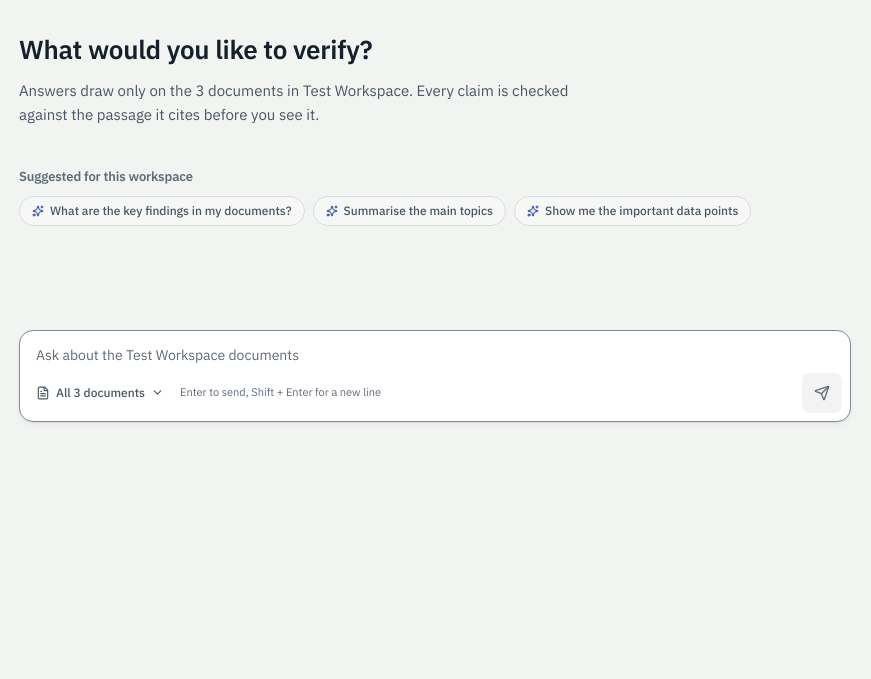
Test case: ChatPage › falls back to the sources list + word count for a cached replay that never sent progress frames (BUG-50)
In the text box named "Ask a question about this workspace": (435, 350) top-left (20, 331), bottom-right (850, 369), type "Summarise revenue"
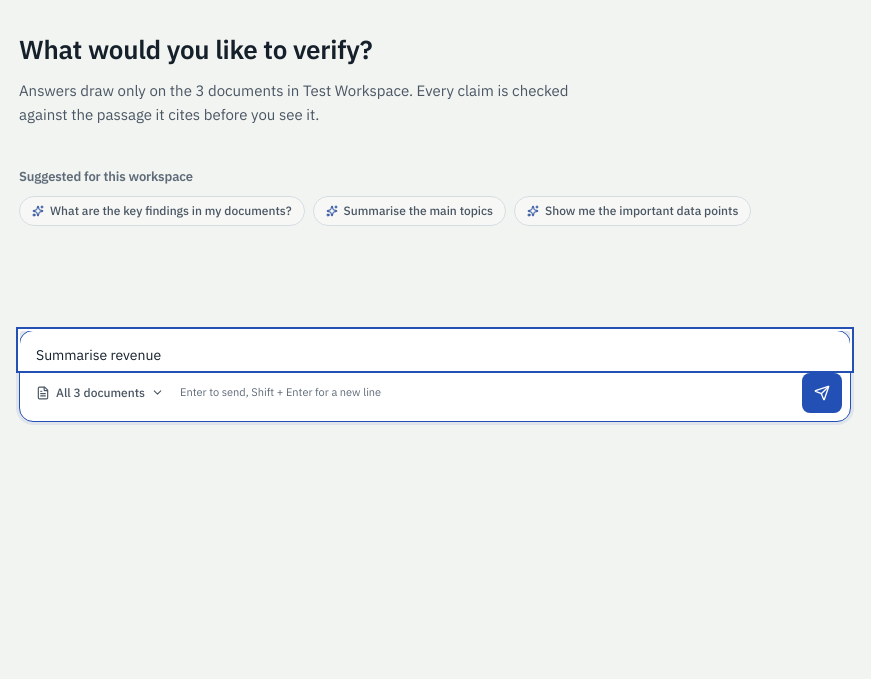
Press Enter
(page scrolled)
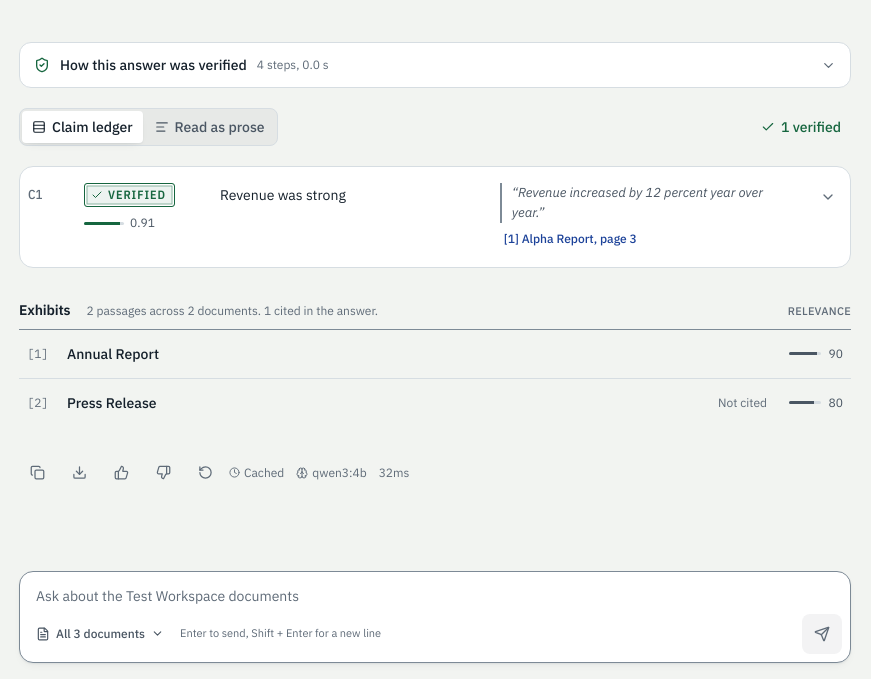
Click the button "How this answer was verified 4 steps, 0.0 s": (153, 65) top-left (20, 43), bottom-right (850, 87)
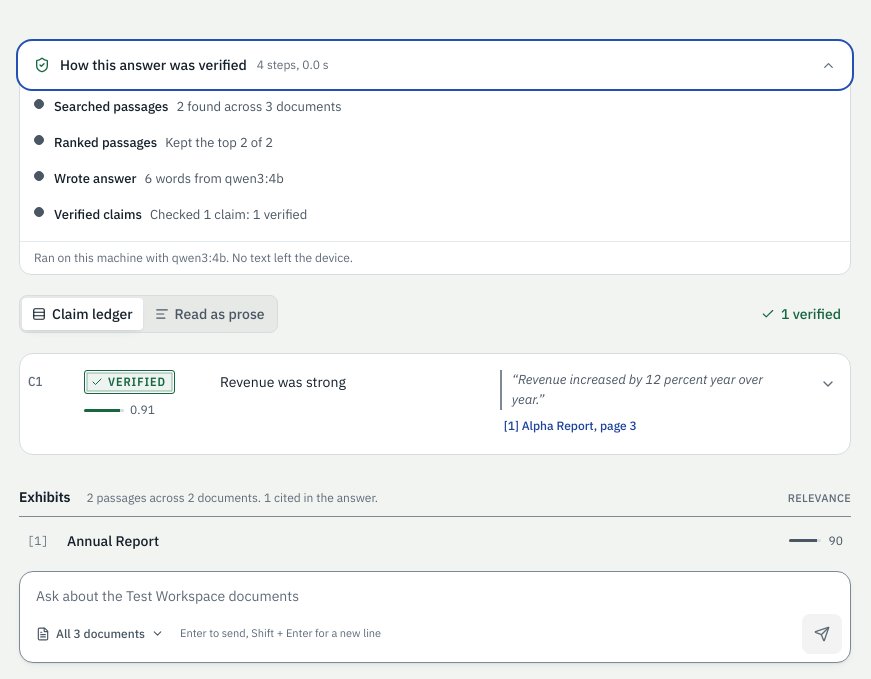
Expected: the text "2 found across 3 documents" is shown, top-left (176, 98), bottom-right (342, 115)
Expected: the text "Kept the top 2 of 2" is shown, top-left (165, 134), bottom-right (273, 151)
Expected: the text "6 words from qwen3:4b" is shown, top-left (144, 170), bottom-right (284, 187)
